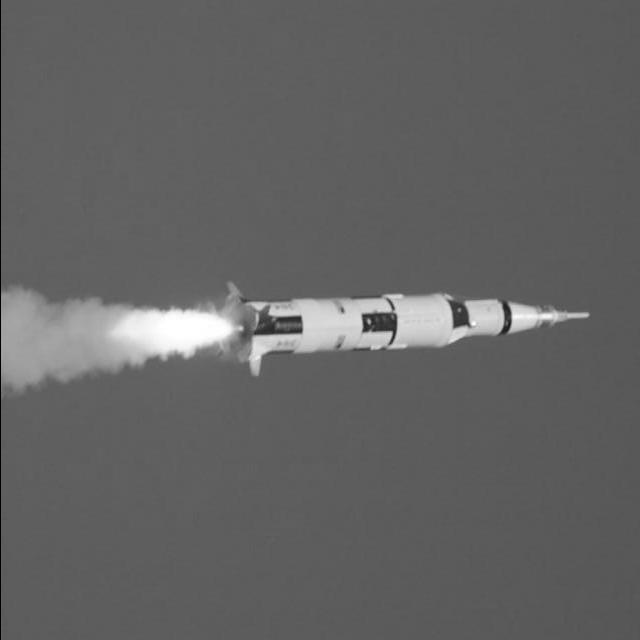missile: (222, 278, 562, 379)
